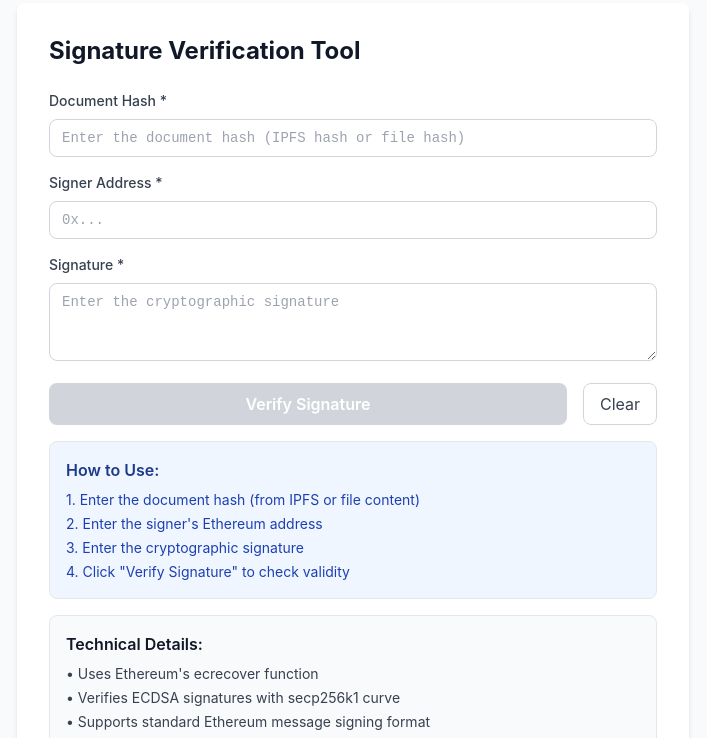
Test case: SignatureVerifier Component › shows success message for valid signature
The image size is (707, 738).
Type "0x1234567890abcdef" into the field with placeholder "Enter the document hash (IPFS hash or file hash)" at (353, 138), box [49, 119, 657, 157]
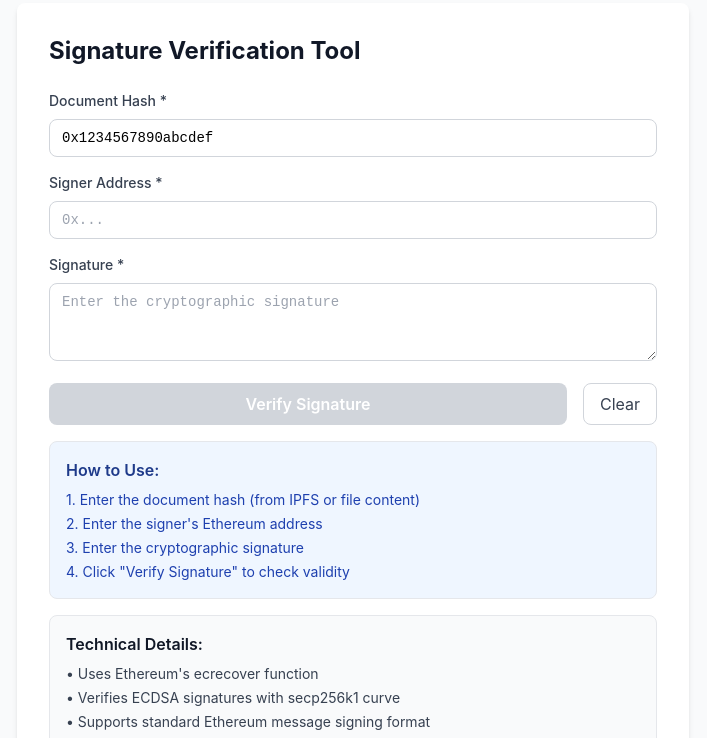
Type "0xabcdef1234567890" into the field with placeholder "0x..." at (353, 220), box [49, 201, 657, 239]
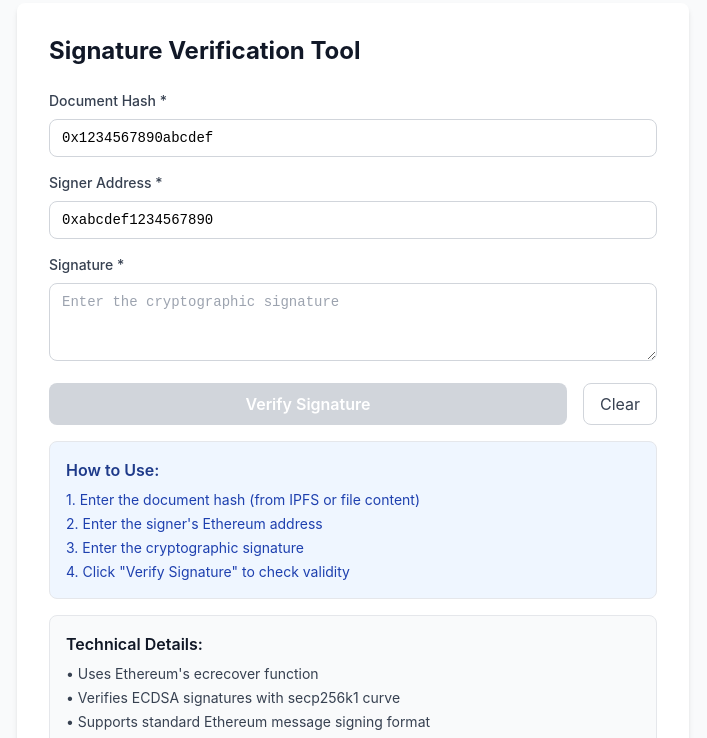
Type "0xsignature123" into the text box with placeholder "Enter the cryptographic signature" at (353, 322), box [49, 283, 657, 361]
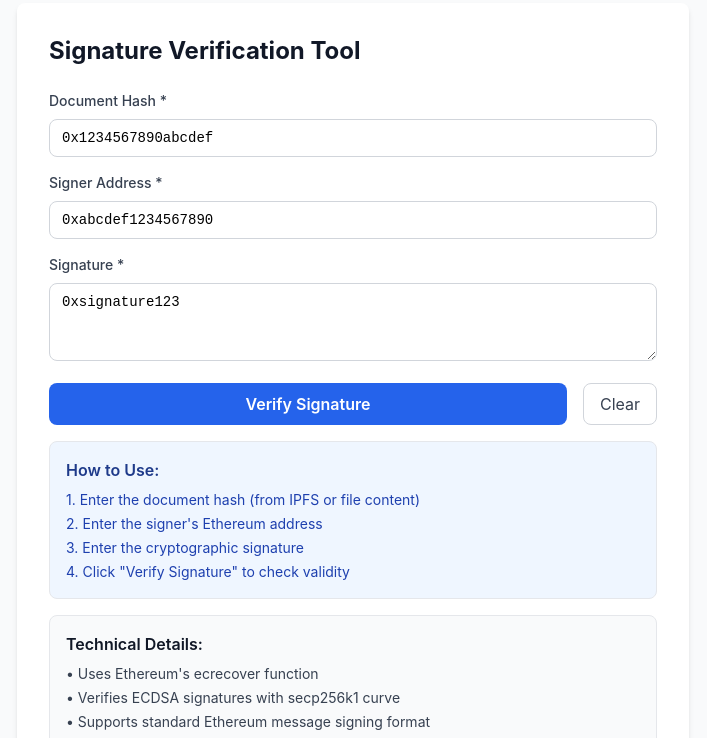
Click the button "Verify Signature" at (308, 404), box [49, 383, 567, 425]
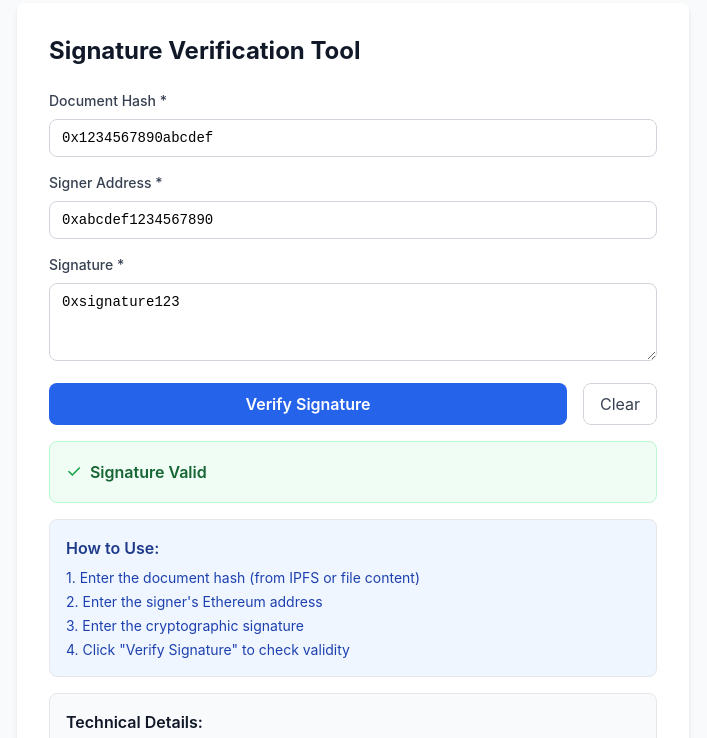
Now the heading "Signature Valid" is shown, box [90, 460, 207, 484]
Now the text "✓" is shown, box [66, 458, 82, 486]
